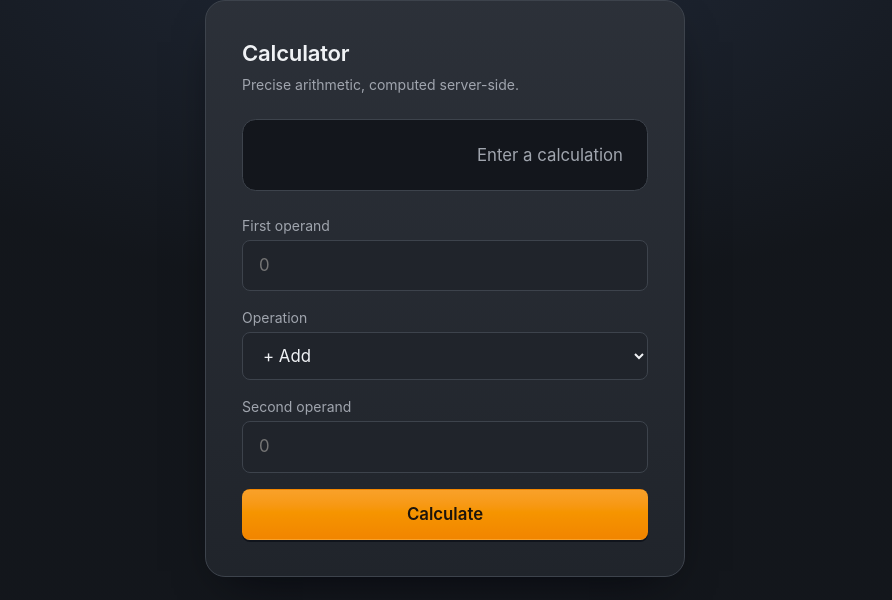
Calculator › displays 0.3 for 0.1 + 0.2 without floating-point noise
The width and height of the screenshot is (892, 600).
Type "0.1" into the field labelled "First operand" at (445, 266), box [242,240,648,291]
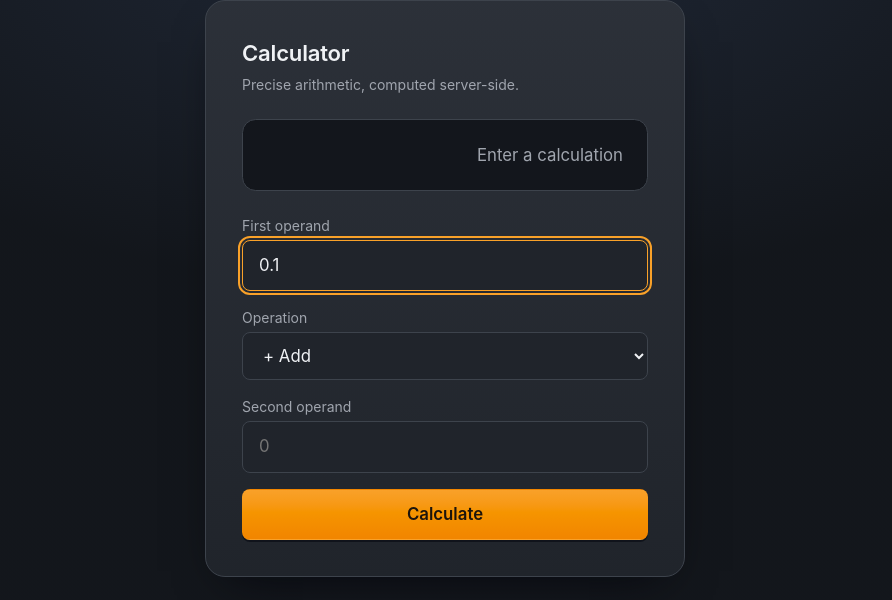
Select "+ Add" in the dropdown labelled "Operation" at (445, 356), box [242,332,648,380]
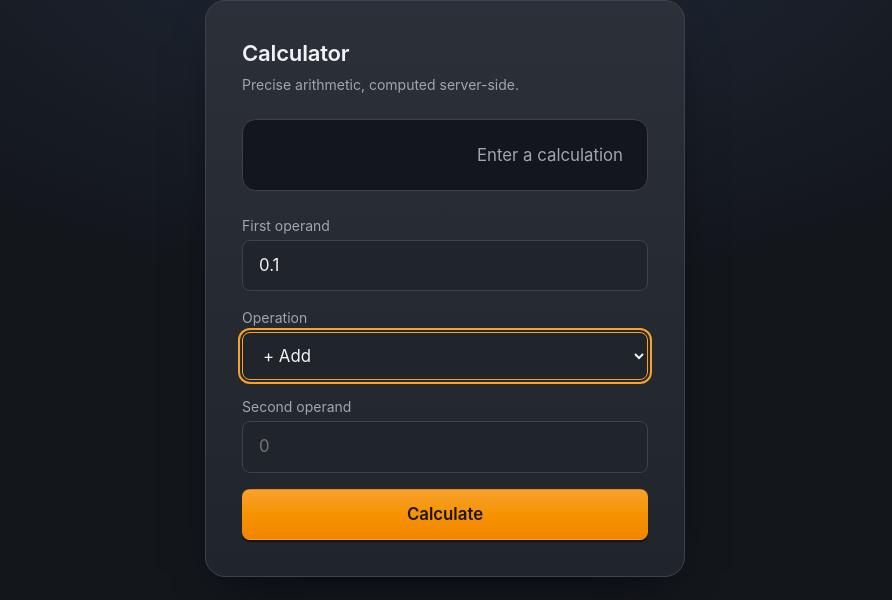
Type "0.2" into the field labelled "Second operand" at (445, 447), box [242,421,648,473]
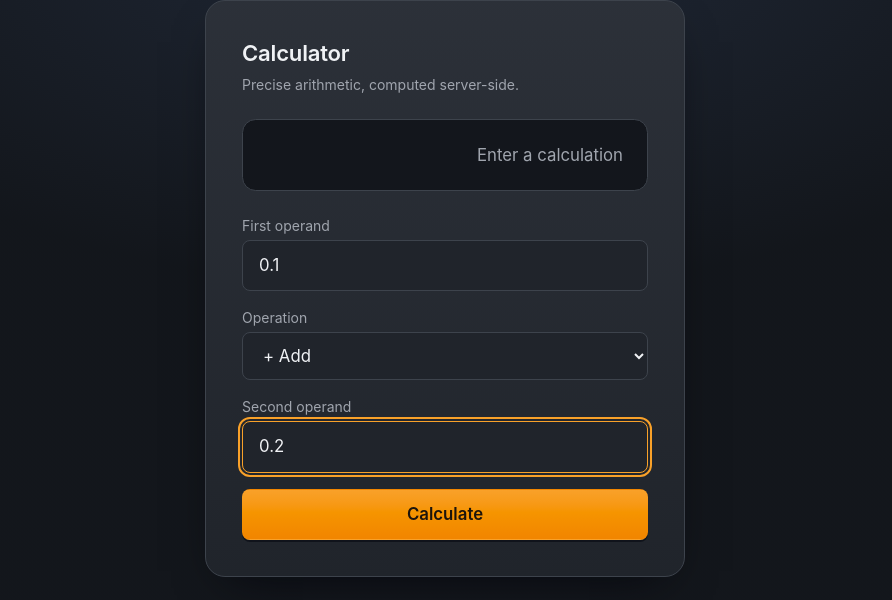
Click the button "Calculate" at (445, 514), box [242,489,648,540]
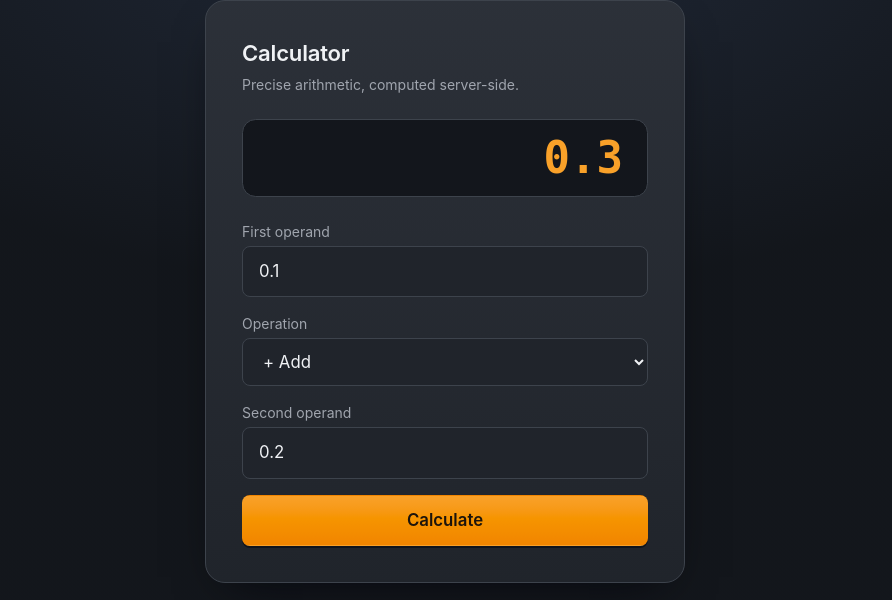
Result: the text "0.3" is shown at [544,136,623,180]
